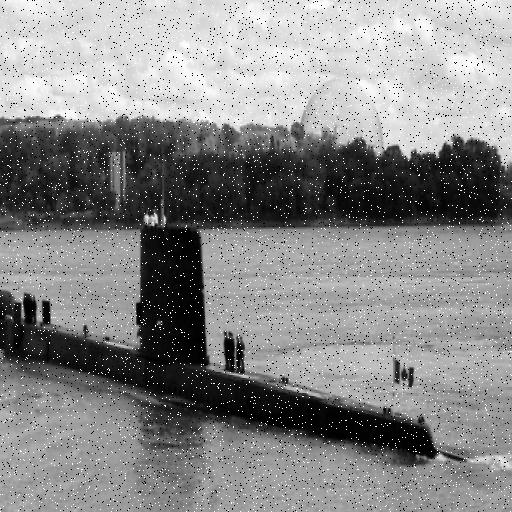submarine: (1, 222, 433, 456)
